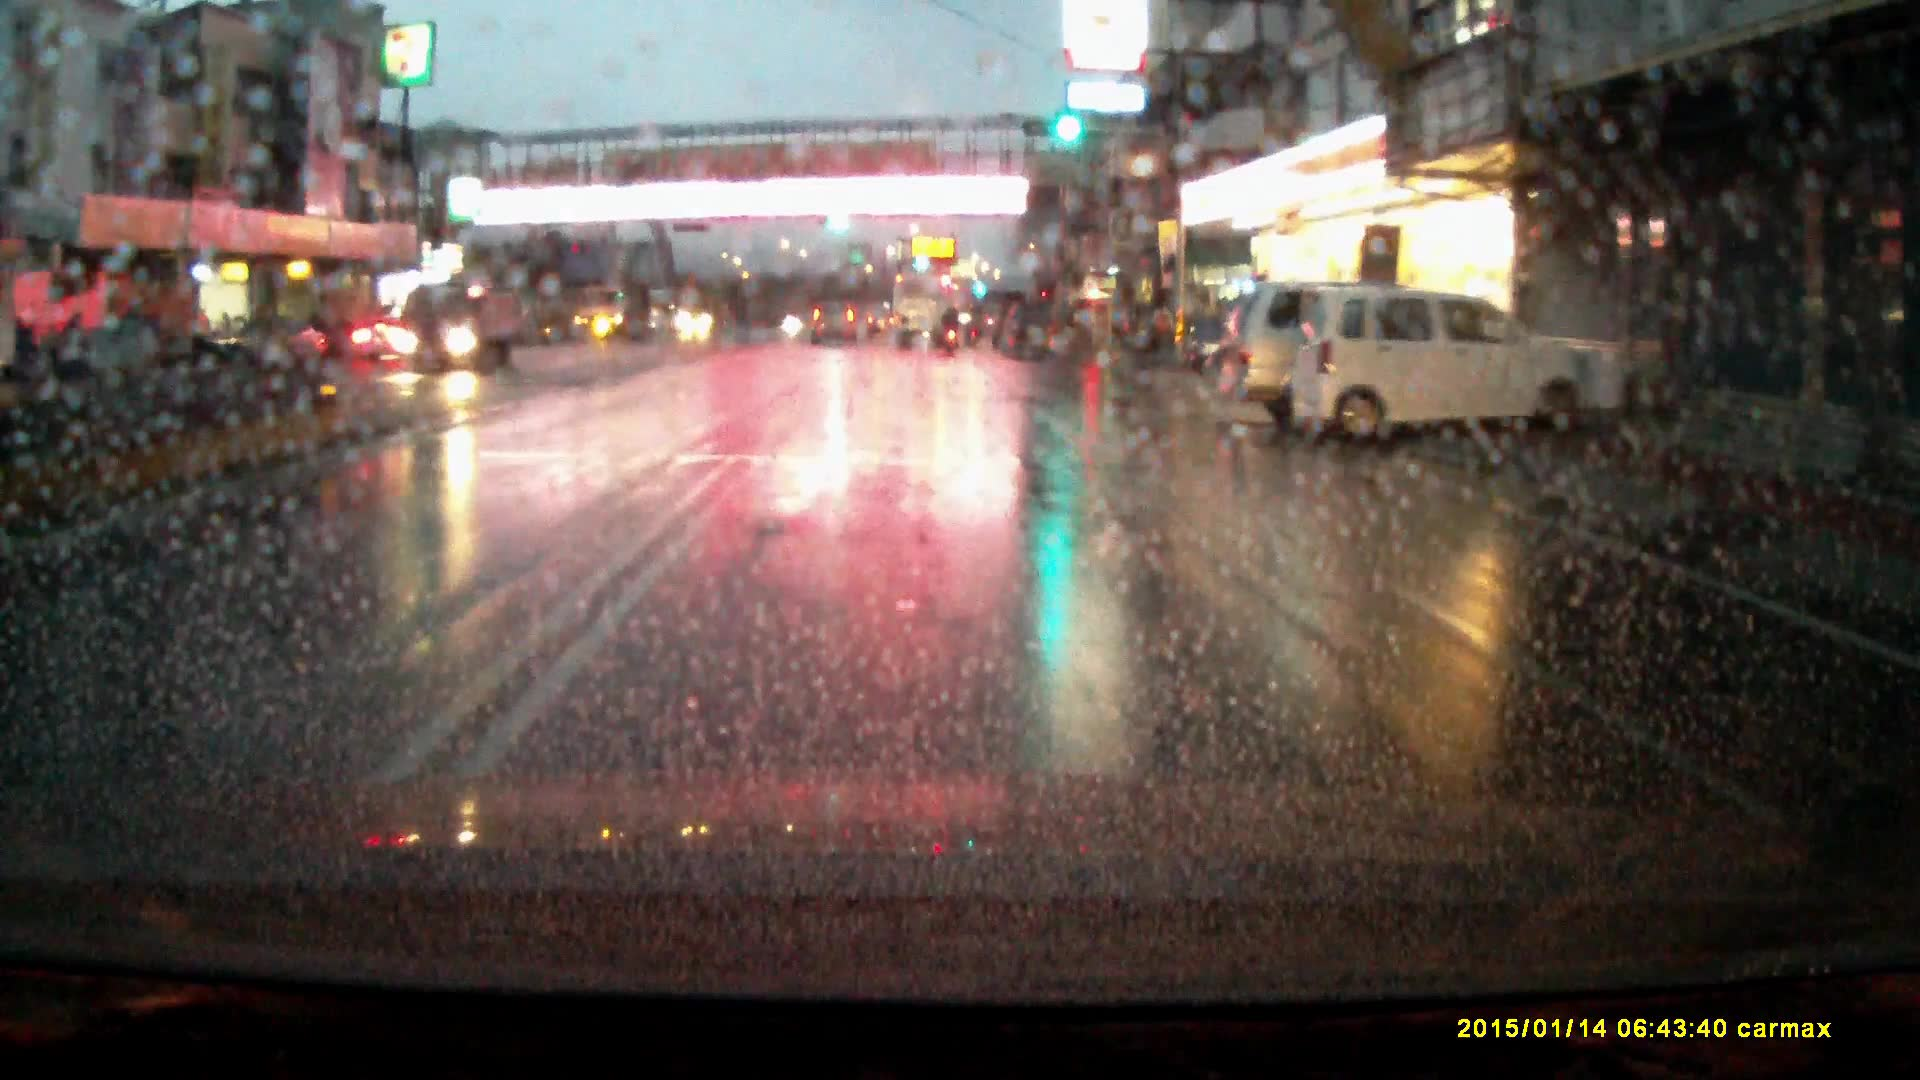rider: (942, 306, 962, 356)
vehicle: (1289, 293, 1613, 452), (1219, 281, 1405, 432), (393, 294, 508, 384), (194, 318, 329, 381), (894, 278, 953, 353), (569, 292, 644, 346), (998, 305, 1059, 366), (1115, 305, 1176, 364), (673, 298, 737, 346), (810, 303, 862, 353), (349, 323, 406, 369)
